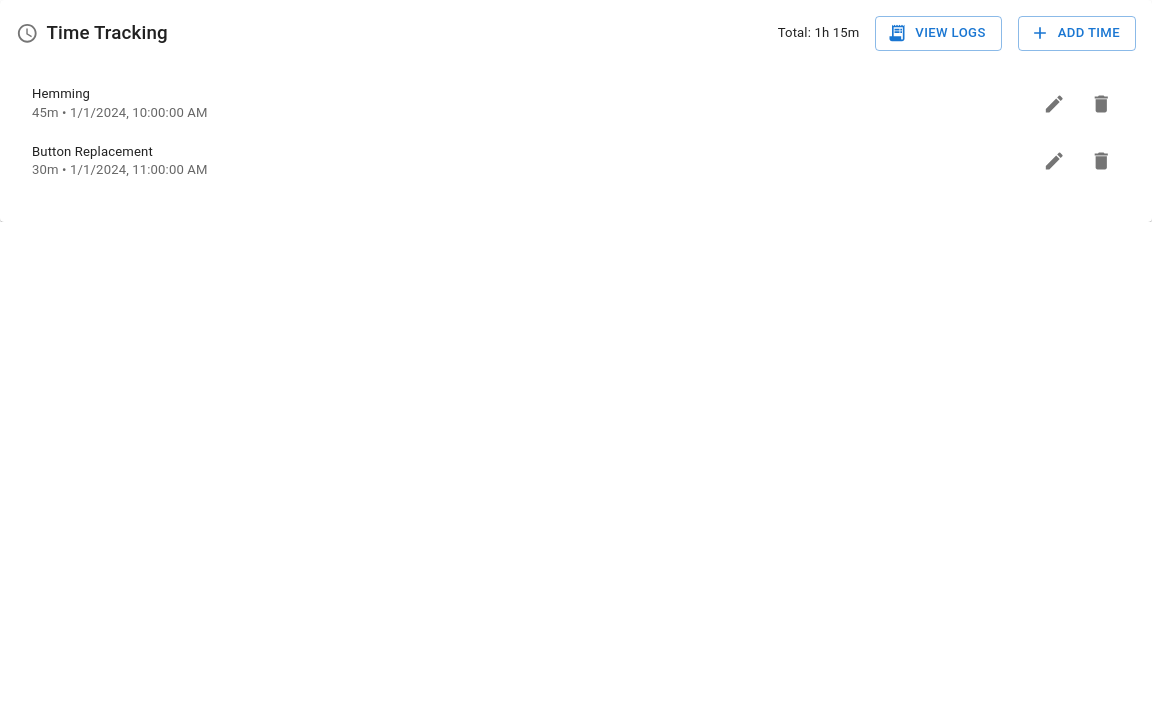
Test: GarmentTimeTracker › Validation › should show time validation error when no time is entered
Expected: the heading "Time Tracking" is shown, top-left (46, 18), bottom-right (168, 48)
# Click Add Time button
Click the button "Add Time".
click(1077, 34)  # box top-left (1018, 16), bottom-right (1136, 51)
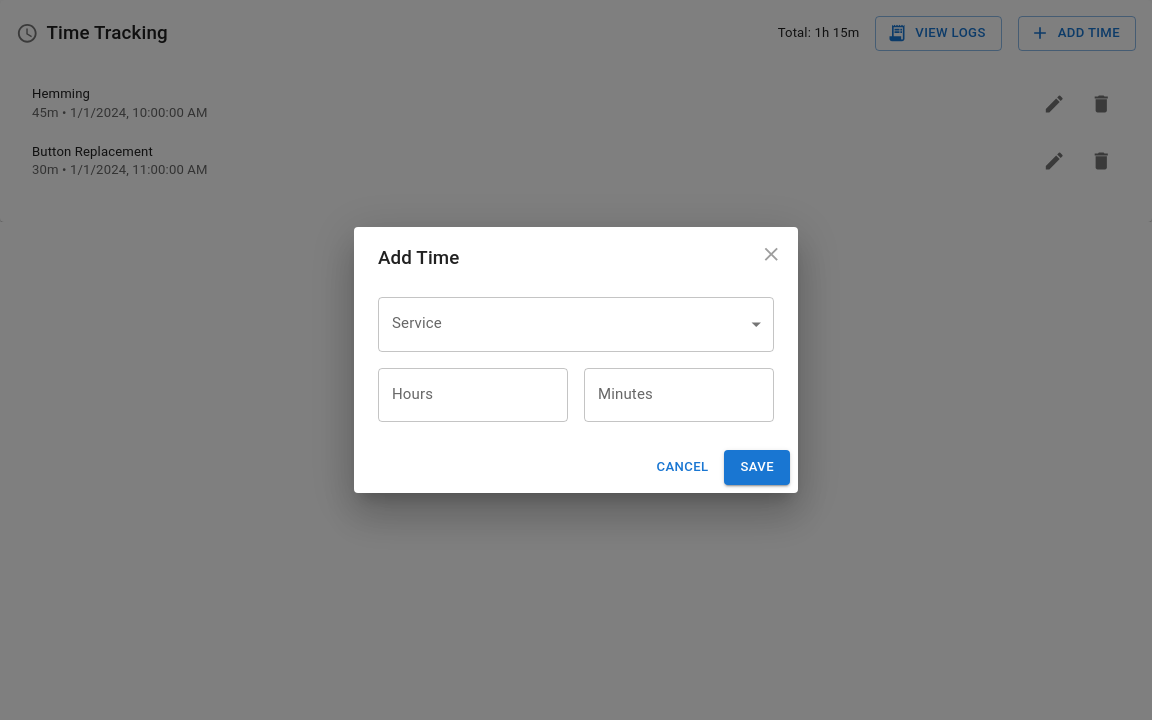
# Select service but don't add time
Select "Hemming" in the dropdown labelled "Service" at (576, 324), box top-left (378, 297), bottom-right (774, 352)
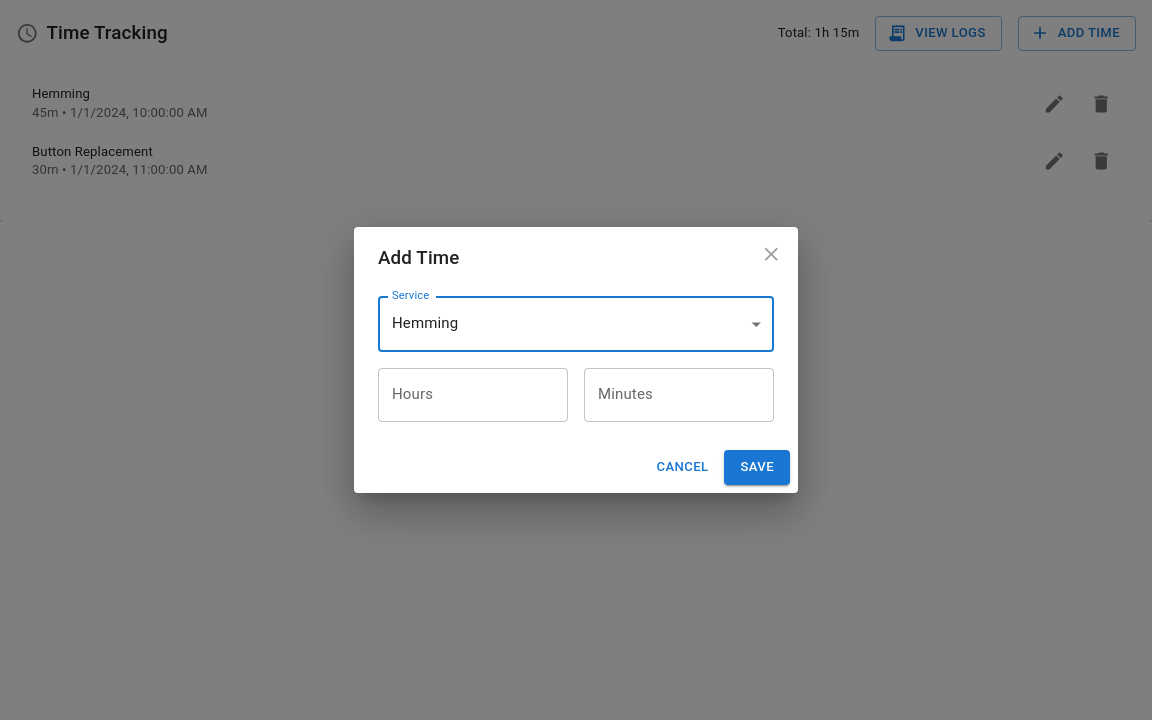
# Try to save
Click the button "Save".
click(757, 468)  # box top-left (724, 450), bottom-right (790, 485)
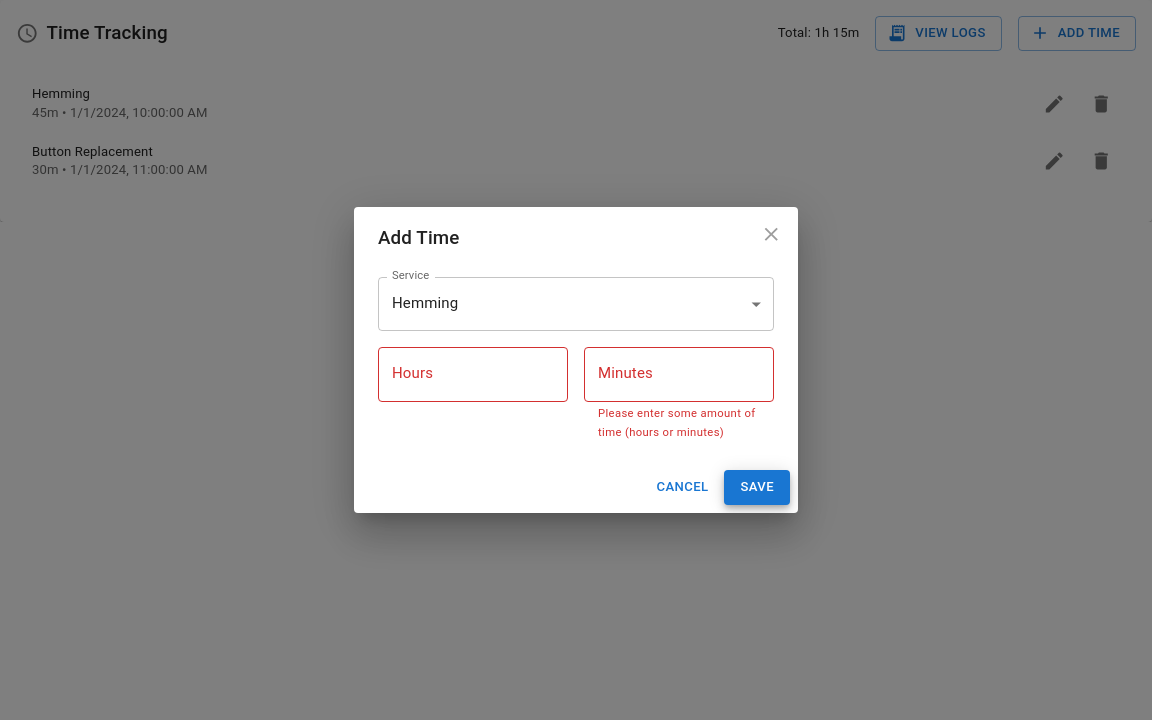
Expected: the text "Please enter some amount of time (hours or minutes)" is shown, top-left (598, 405), bottom-right (760, 442)
